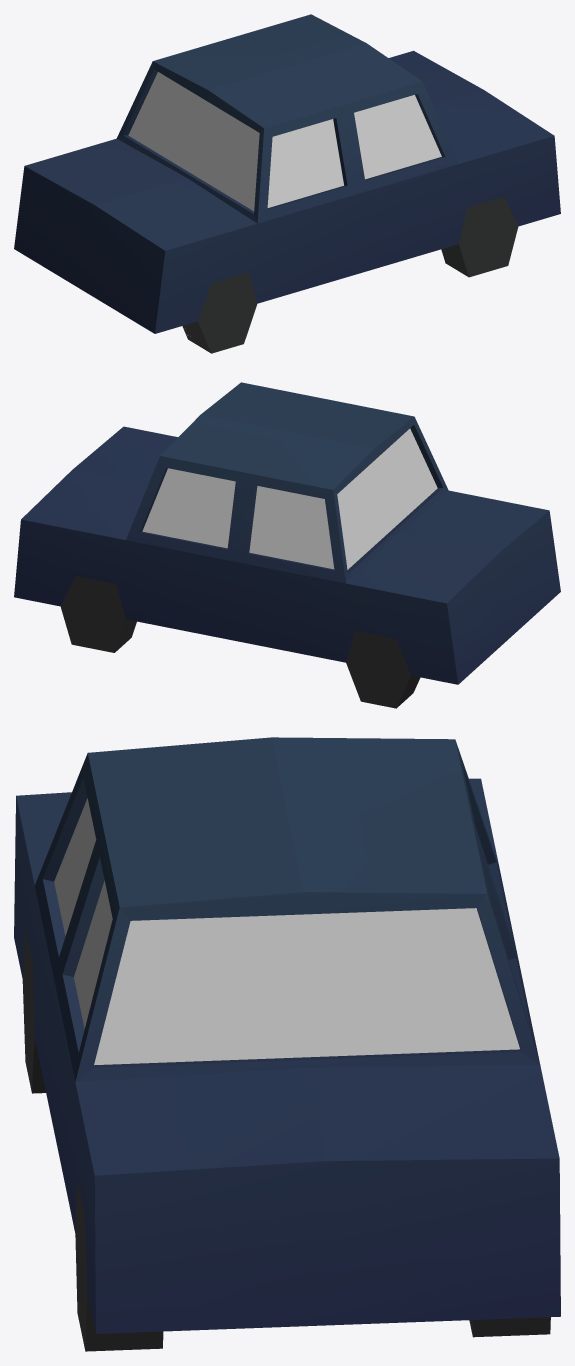
The model's file is BlueCar.fbx.
3 views of the same model, one above another, from view 1: azimuth 30°, elevation 25°; view 2: azimuth 150°, elevation 25°; view 3: azimuth 270°, elevation 25° (orthographic). The views are drawn at different scales.
Parts seen in each view (by area): view 1: Cube.557; view 2: Cube.557; view 3: Cube.557.
Part boxes in pixels (box(x1,y1,x2,y2)): Cube.557: box(14, 14, 560, 353); Cube.557: box(14, 382, 560, 708); Cube.557: box(14, 737, 560, 1351).
Bounding box in the file's own units: 122 × 52.64 × 68.37.
